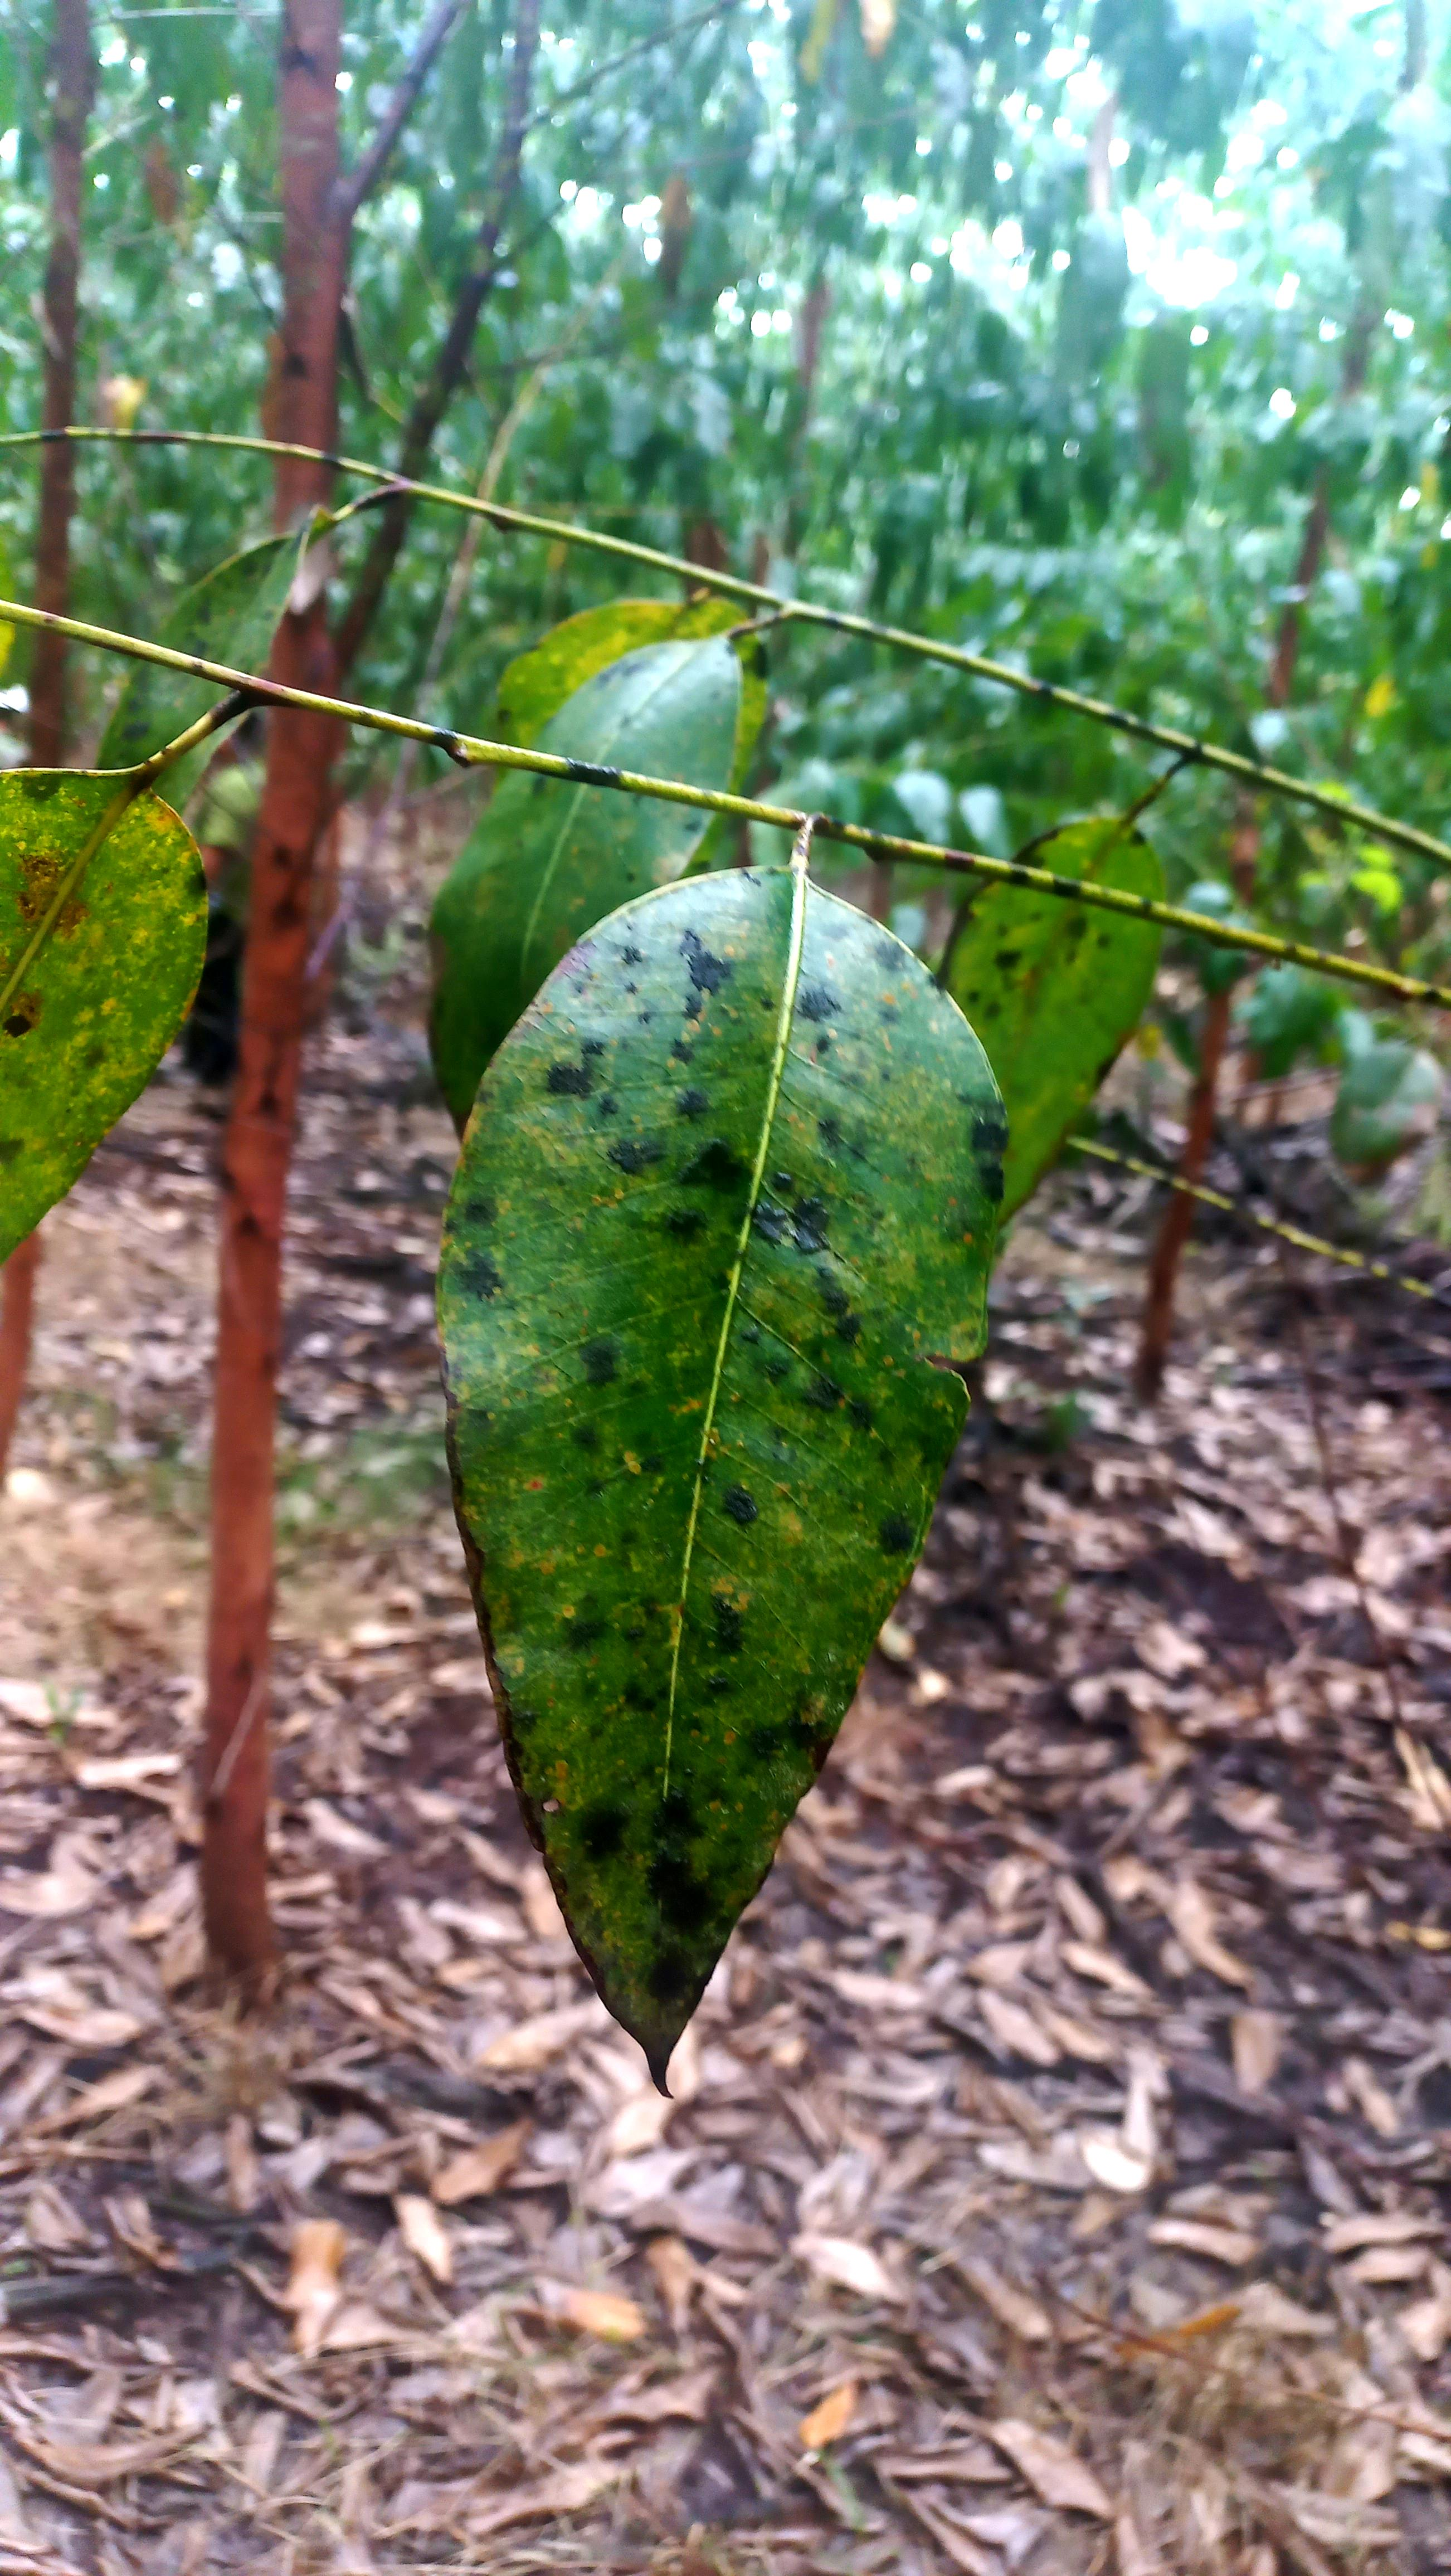Embun Jelaga: (444, 844, 1010, 2097)
